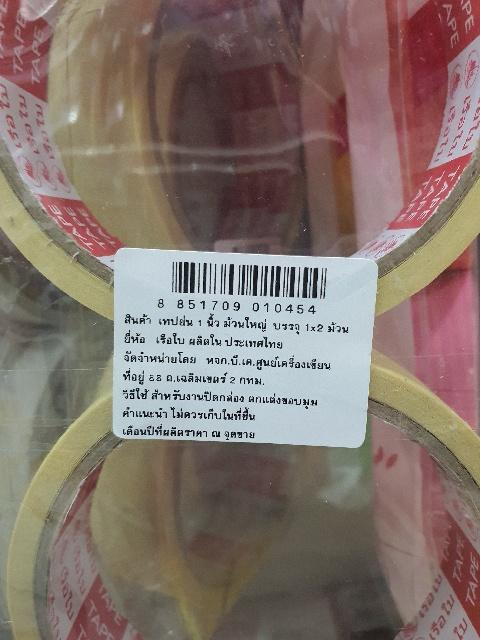Barcode: (152, 258, 334, 320)
